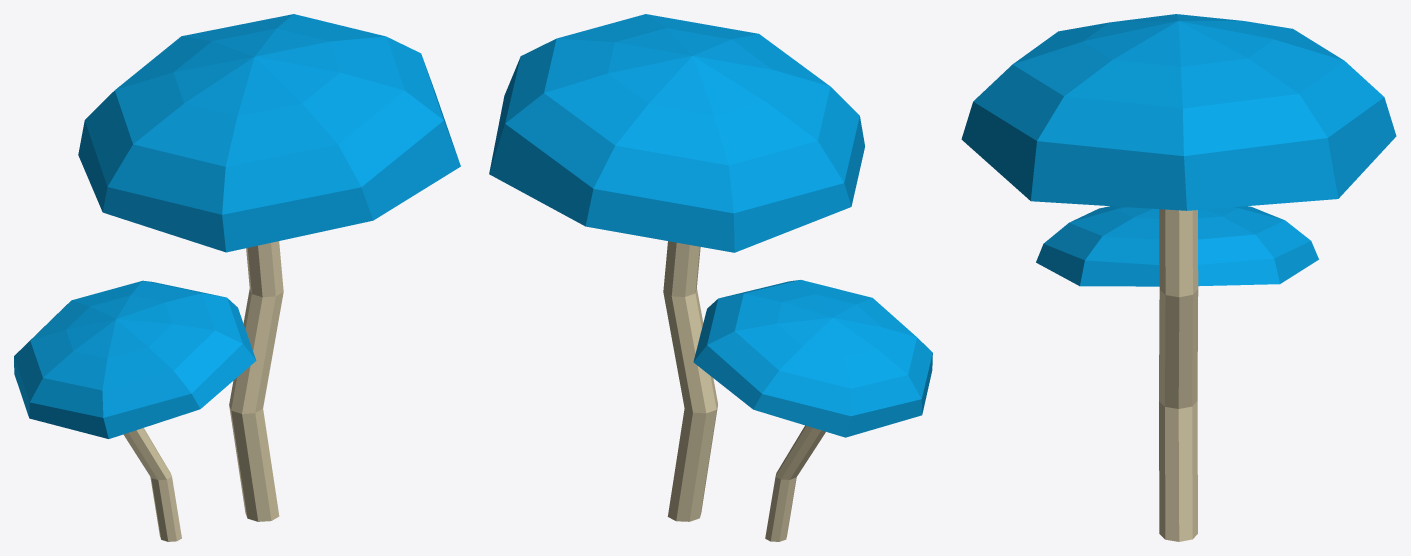
Rendered from Mushroom003.fbx.
3 renders of one model, left to right at view 1: azimuth 30°, elevation 25°; view 2: azimuth 150°, elevation 25°; view 3: azimuth 270°, elevation 25°, orthographic. The views are drawn at different scales.
Visible parts, largest first — view 1: Mushroom003; view 2: Mushroom003; view 3: Mushroom003.
Boxes of the visible parts, x1,y1,x2,y2 form: Mushroom003: [14, 14, 460, 541]; Mushroom003: [489, 14, 932, 541]; Mushroom003: [961, 14, 1396, 541].
Size of the model in its own units: 1.44 by 1.54 by 1.19.
